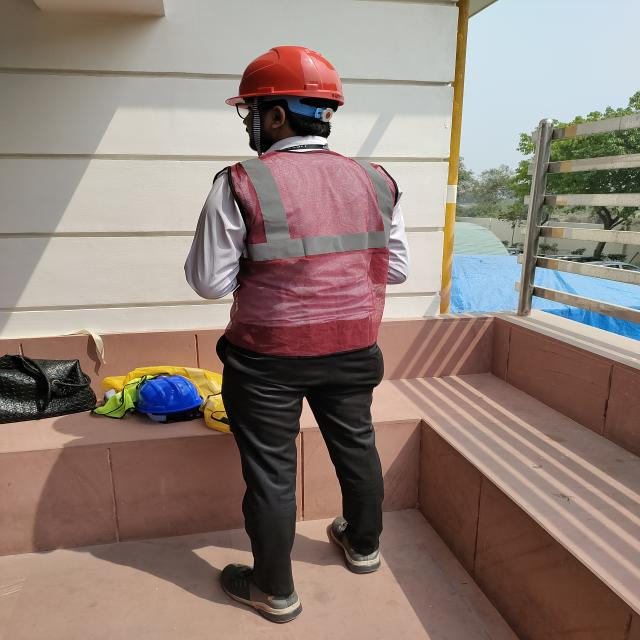safe: (192, 46, 398, 624)
